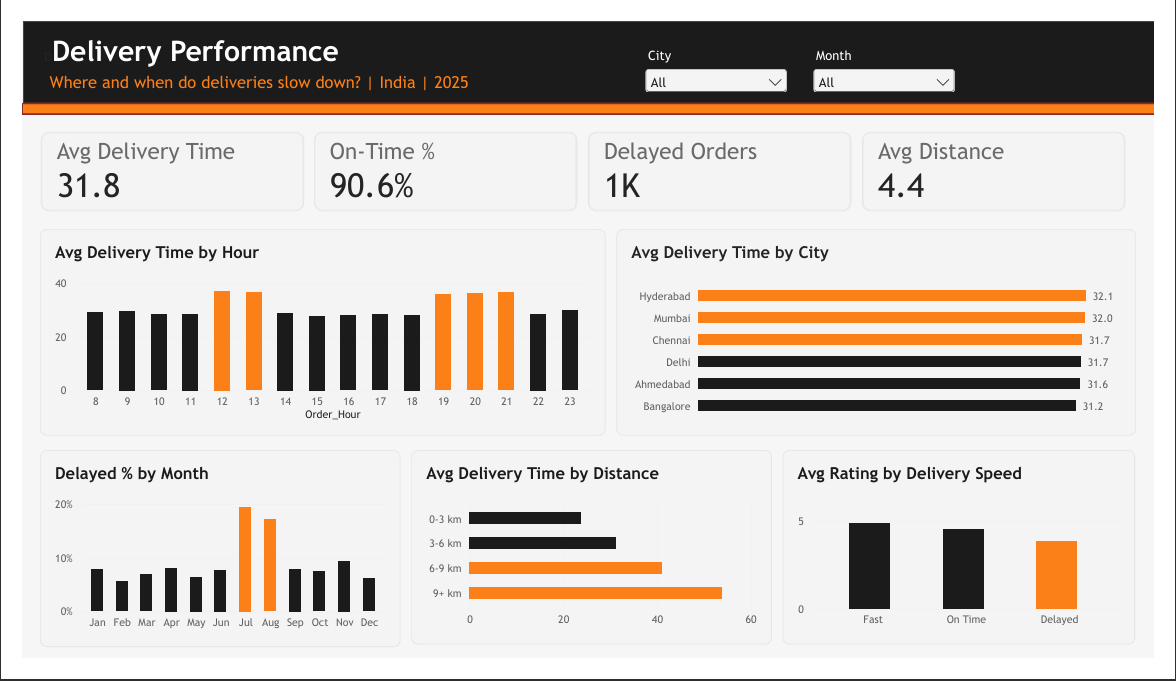

This screenshot's page, from the dashboard's own definition file:
{"tool":"powerbi","page":{"name":"Delivery Performance","canvas":[1280,720],"ordinal":1},"visuals":[{"type":"shape","box":[1,0,1919,93.4],"z":0},{"type":"textbox","box":[24.9,14.9,614.6,63.3],"z":1000},{"type":"textbox","box":[31.4,57.1,566.4,33.1],"z":2000},{"type":"shape","box":[0,92.7,1919,12],"z":3000},{"type":"cardVisual","fields":{"Data":["orders.Avg Delivery Time"]},"box":[20.6,125,298,90],"z":4000},{"type":"cardVisual","fields":{"Data":["orders.On-Time %"]},"box":[330,125,298,90],"z":5000},{"type":"cardVisual","fields":{"Data":["orders.Delayed Orders"]},"box":[640,125,298,90],"z":6000},{"type":"cardVisual","fields":{"Data":["orders.Avg Distance"]},"box":[950,125,298,90],"z":7000},{"type":"clusteredBarChart","title":"Avg Delivery Time by City","fields":{"Category":["orders.City"],"Y":["orders.Avg Delivery Time"]},"box":[672,235,588,234],"z":8000},{"type":"clusteredColumnChart","title":"Avg Delivery Time by Hour","fields":{"Category":["orders.Order_Hour"],"Y":["orders.Avg Delivery Time"]},"box":[20,235,640,234],"z":9000},{"type":"clusteredColumnChart","title":"Delayed % by Month","fields":{"Category":["Calendar.Month"],"Y":["orders.Delayed %"]},"box":[20,485,408,223],"z":10000},{"type":"clusteredBarChart","title":"Avg Delivery Time by Distance","fields":{"Category":["orders.Distance Range"],"Y":["orders.Avg Delivery Time"]},"box":[440,485,408,220],"z":11000},{"type":"clusteredColumnChart","title":"Avg Rating by Delivery Speed","fields":{"Category":["orders.Delivery_Speed"],"Y":["orders.Avg Rating"]},"box":[860,485,399,220],"z":12000},{"type":"slicer","fields":{"Values":["orders.City"]},"box":[700,30,170,50],"z":13000},{"type":"slicer","fields":{"Values":["Calendar.Month"]},"box":[890,30,170,50],"z":14000}]}

Visuals, with their boxes in screenshot pixels (x1, y1, x2, y2), scaled from the page's 1280x720 canvas onto the 1176x681 screenshot:
shape: box(1, 0, 1175, 88)
textbox: box(23, 14, 588, 74)
textbox: box(29, 54, 549, 85)
shape: box(0, 88, 1175, 99)
cardVisual - orders.Avg Delivery Time: box(19, 118, 293, 203)
cardVisual - orders.On-Time %: box(303, 118, 577, 203)
cardVisual - orders.Delayed Orders: box(588, 118, 862, 203)
cardVisual - orders.Avg Distance: box(873, 118, 1147, 203)
"Avg Delivery Time by City" clusteredBarChart: box(617, 222, 1158, 444)
"Avg Delivery Time by Hour" clusteredColumnChart: box(18, 222, 606, 444)
"Delayed % by Month" clusteredColumnChart: box(18, 459, 393, 670)
"Avg Delivery Time by Distance" clusteredBarChart: box(404, 459, 779, 667)
"Avg Rating by Delivery Speed" clusteredColumnChart: box(790, 459, 1157, 667)
slicer - orders.City: box(643, 28, 799, 76)
slicer - Calendar.Month: box(818, 28, 974, 76)
